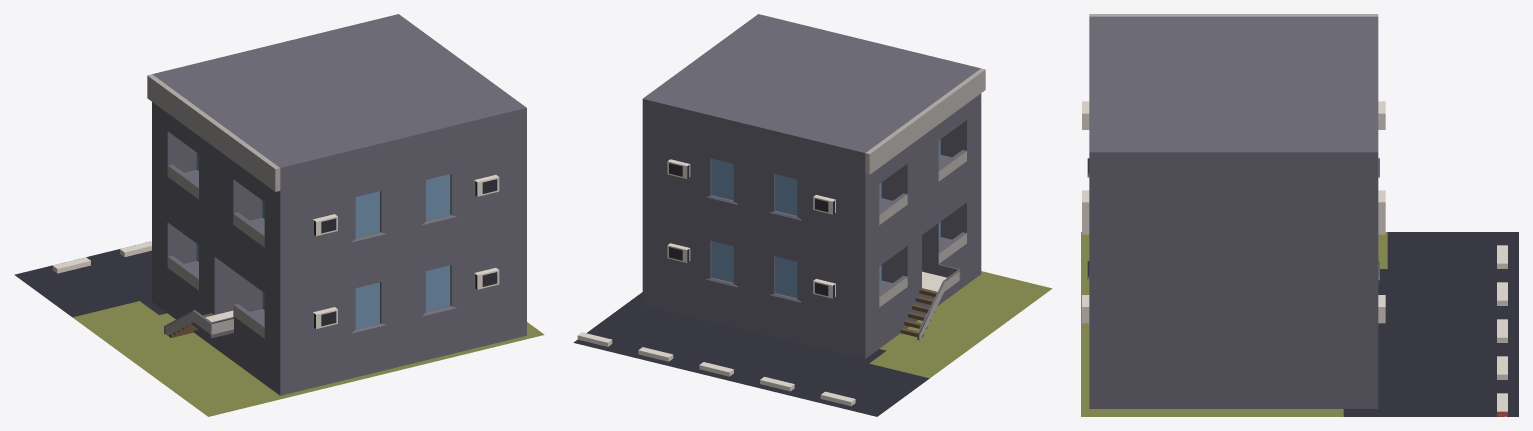
Rendered from house1.fbx.
3 renders of one model, left to right at view 1: azimuth 30°, elevation 25°; view 2: azimuth 150°, elevation 25°; view 3: azimuth 270°, elevation 25°, orthographic. The views are drawn at different scales.
Parts seen in each view (by area): view 1: Cube, Plane.001, Cube.003; view 2: Cube, Plane.001, Cube.003, Cube.001; view 3: Cube, Plane.001.
Boxes of the visible parts, left/top/right/bottom form: Cube: left=147, top=14, right=526, bottom=395; Plane.001: left=14, top=241, right=544, bottom=416; Cube.003: left=164, top=310, right=234, bottom=335; Cube: left=642, top=14, right=985, bottom=358; Plane.001: left=573, top=271, right=1052, bottom=416; Cube.003: left=917, top=264, right=961, bottom=340; Cube.001: left=900, top=288, right=938, bottom=337; Cube: left=1082, top=14, right=1385, bottom=408; Plane.001: left=1081, top=232, right=1518, bottom=416.
Size of the model in its own units: 1830 by 1184 by 1830.
